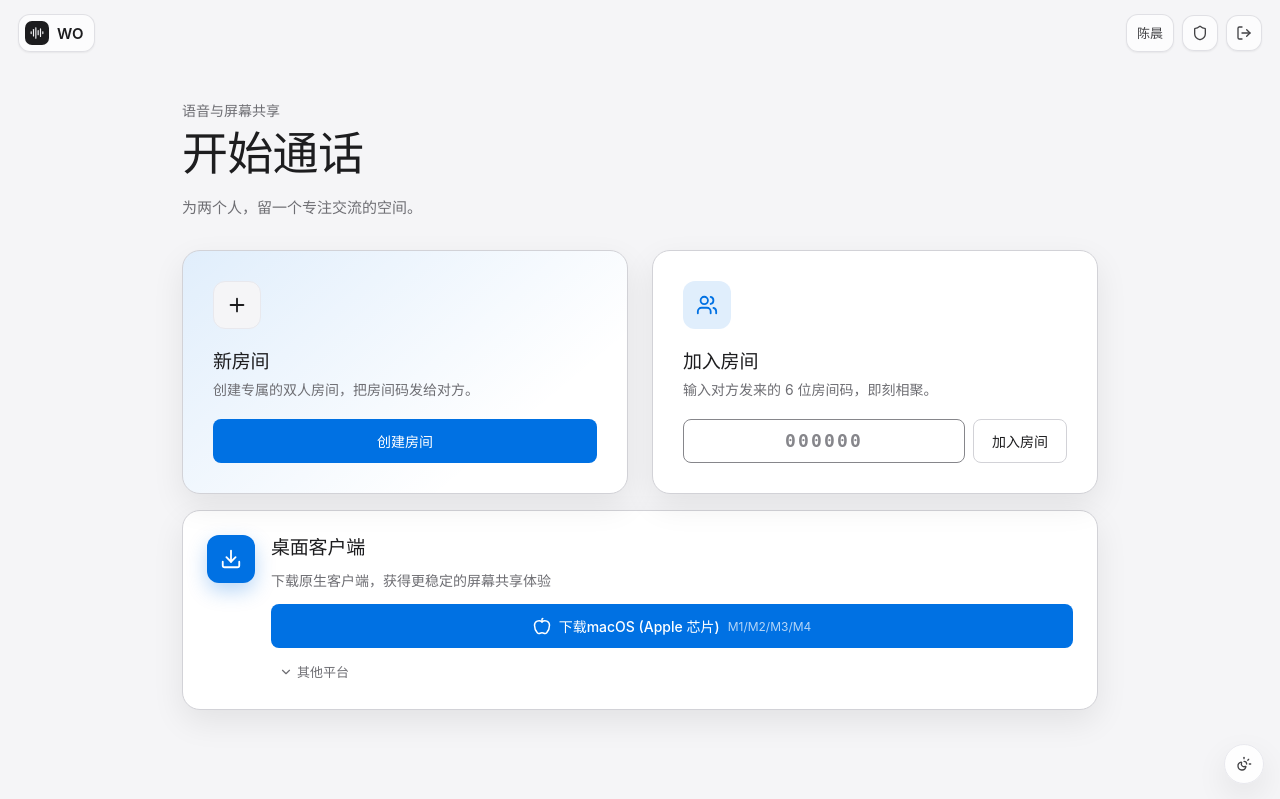
it: desktop account and room workflow › hangs up through the creator end command and returns home
Check: the 1st heading named "开始通话" is shown, box 182,125 -> 363,181
Click the 1st button named "创建房间": x=405, y=441 213,419 -> 597,463
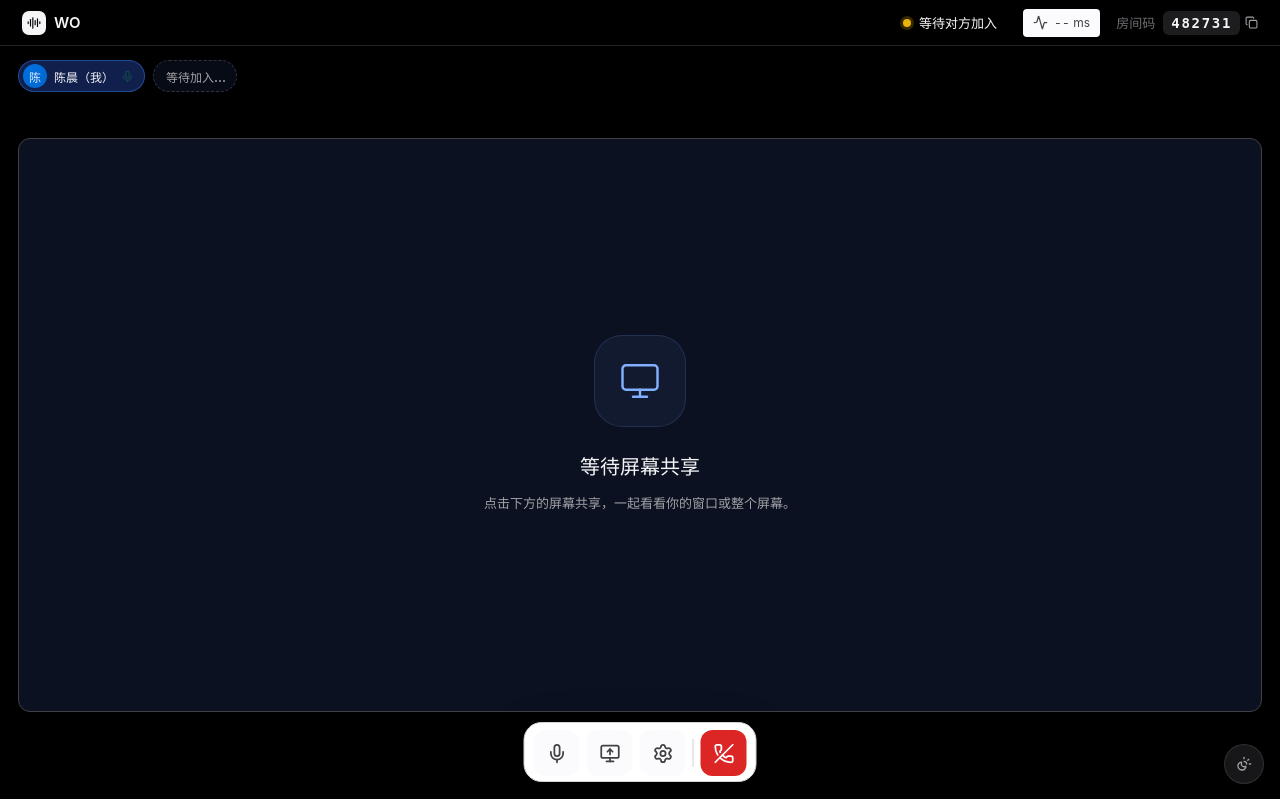
Check: the 2nd text "等待对方加入" is shown, box 919,15 -> 997,31
Click the button named "挂断": x=724, y=753 700,730 -> 746,776
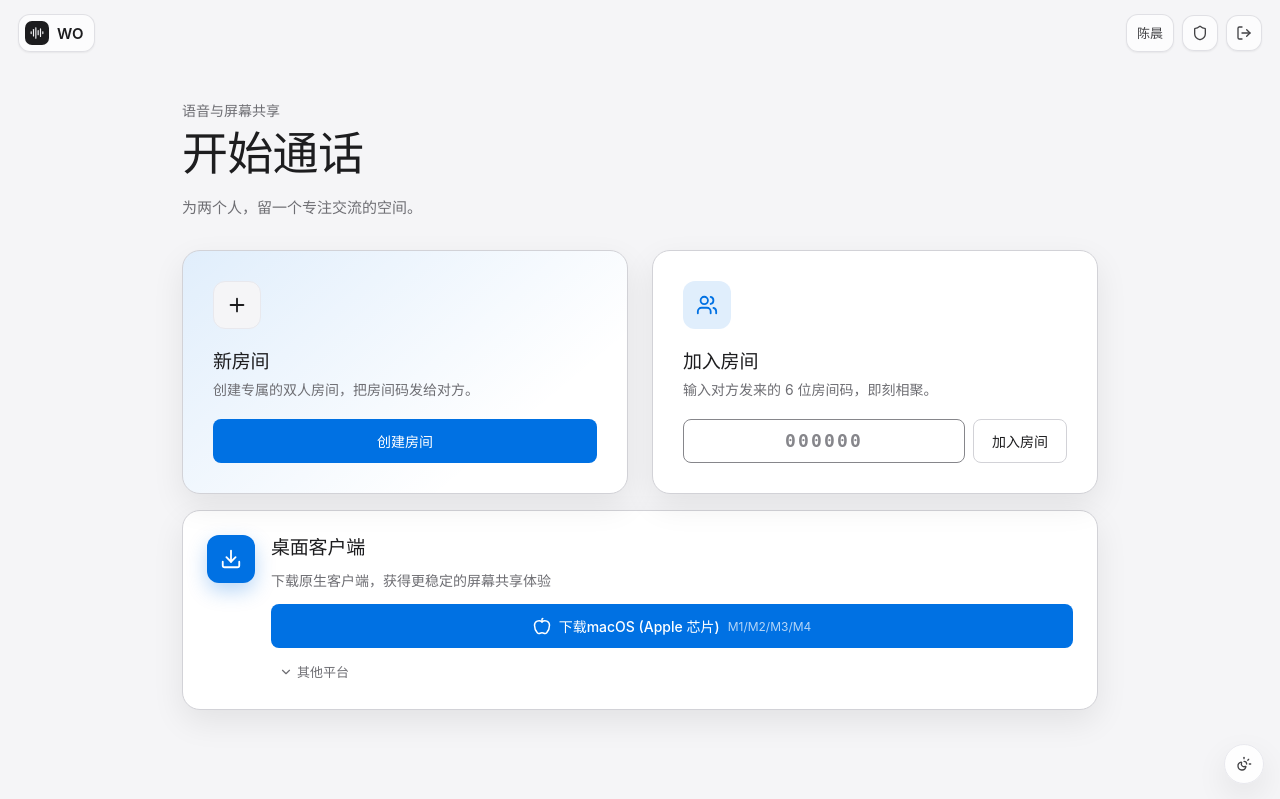
Check: the 1st heading named "开始通话" is shown, box 182,125 -> 363,181
